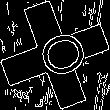O_W: (24, 26, 86, 84)
